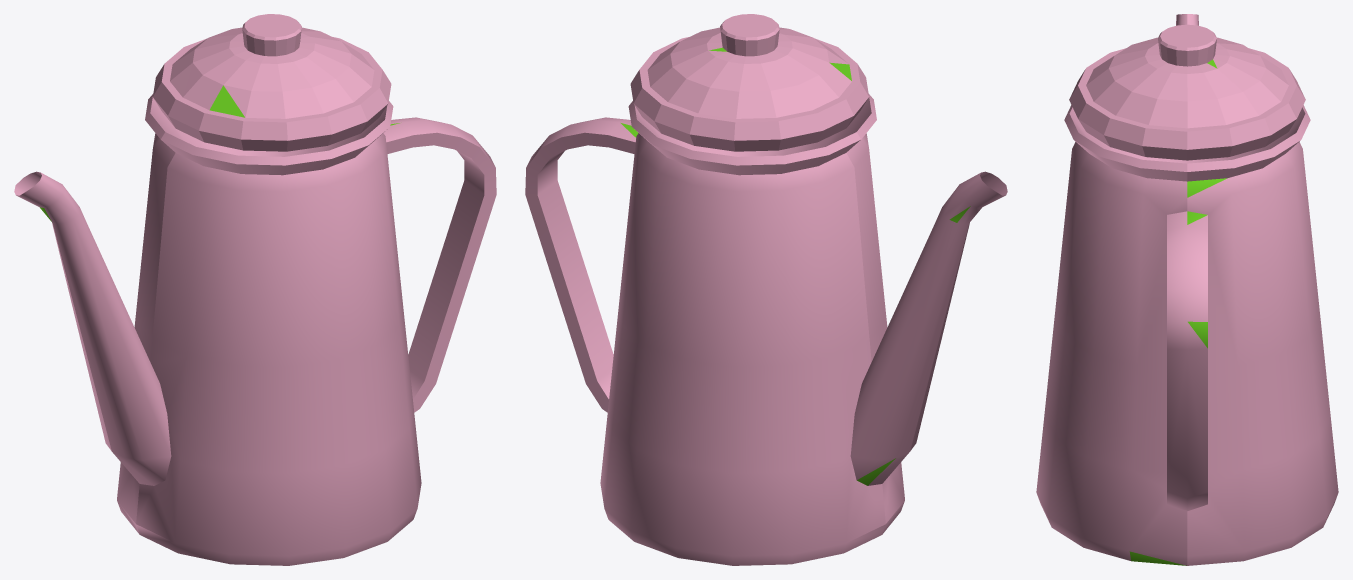
Rendered from 沖洗壺.fbx.
3 views of the same model, side by side, from view 1: azimuth 30°, elevation 25°; view 2: azimuth 150°, elevation 25°; view 3: azimuth 270°, elevation 25° (orthographic).
Parts seen in each view (by area): view 1: Body; view 2: Body; view 3: Body.
Part boxes in pixels (x1,y1,x2,y2): Body: (14,14,496,565); Body: (525,14,1007,565); Body: (1036,14,1338,565).
Bounding box in the file's own units: 25.41 × 24.57 × 14.23.
